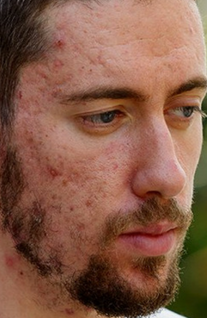bekas: (56, 22, 65, 32), (25, 108, 34, 115), (39, 85, 46, 93), (74, 44, 81, 52), (89, 57, 96, 65), (20, 119, 27, 127), (38, 168, 45, 176), (90, 218, 97, 226), (80, 165, 87, 172), (37, 129, 44, 136), (31, 109, 38, 116), (29, 96, 36, 103), (65, 75, 73, 81), (102, 178, 108, 186), (38, 180, 46, 186), (105, 156, 114, 161), (25, 98, 30, 107), (67, 174, 73, 181), (70, 168, 77, 174), (84, 174, 91, 180), (80, 181, 86, 188), (49, 173, 55, 180), (105, 72, 112, 78), (59, 160, 64, 168), (78, 222, 83, 230), (58, 204, 62, 214), (33, 99, 39, 105), (61, 76, 65, 85), (37, 139, 43, 145), (52, 68, 58, 74), (34, 121, 40, 127), (18, 104, 24, 110), (92, 202, 98, 208), (45, 96, 52, 101), (34, 69, 39, 76), (51, 193, 56, 200), (97, 186, 102, 193), (101, 165, 106, 172), (106, 148, 113, 153), (46, 82, 51, 88), (60, 61, 65, 67), (79, 65, 85, 70), (88, 68, 94, 73), (36, 156, 41, 162), (70, 189, 76, 194), (49, 203, 55, 208), (56, 170, 61, 176), (102, 193, 107, 199), (63, 217, 69, 222), (166, 62, 171, 68), (90, 155, 95, 161), (88, 210, 93, 216), (94, 208, 99, 214), (89, 192, 93, 199), (29, 145, 34, 150), (56, 152, 61, 157), (73, 179, 78, 184), (57, 194, 61, 200), (62, 145, 66, 151), (74, 159, 80, 163), (29, 153, 34, 157), (56, 183, 60, 188), (33, 146, 37, 149)
jerawat: (55, 37, 64, 48), (48, 167, 57, 174), (37, 106, 44, 114), (28, 136, 36, 143), (98, 58, 105, 65), (50, 122, 57, 129), (17, 90, 22, 98), (68, 205, 74, 211), (86, 199, 91, 206), (62, 178, 66, 186), (50, 88, 55, 93), (113, 163, 118, 168), (41, 73, 46, 78), (45, 155, 49, 161), (57, 87, 62, 91), (55, 80, 59, 85), (53, 62, 58, 66), (80, 158, 86, 161), (24, 128, 28, 132), (83, 29, 87, 32)
